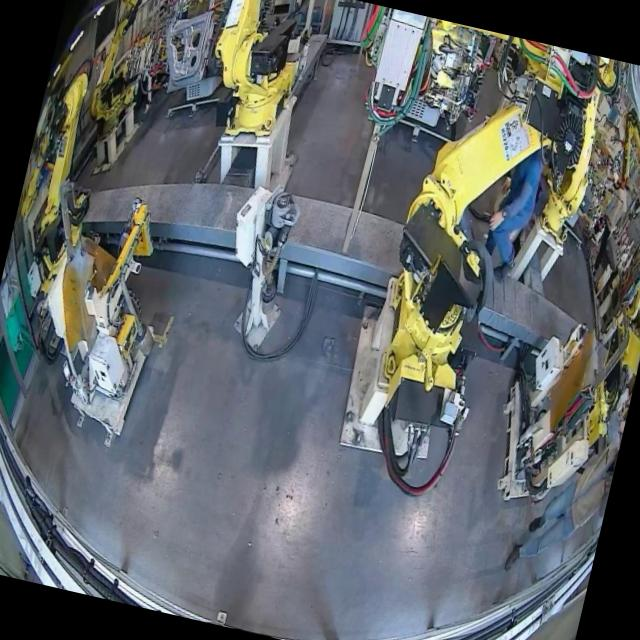Person: (504, 395, 626, 590), (476, 140, 547, 284), (589, 172, 634, 279)
